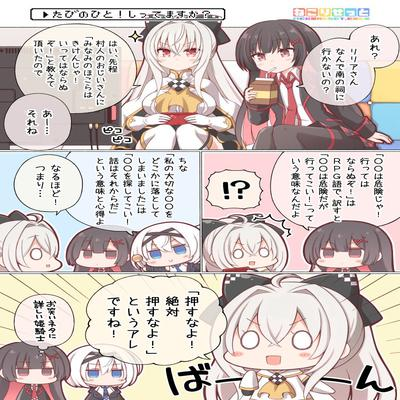bubble: (84, 273, 227, 368), (16, 24, 140, 112), (269, 151, 399, 232), (295, 24, 398, 106), (15, 155, 81, 215), (4, 93, 70, 149), (15, 296, 73, 351)
